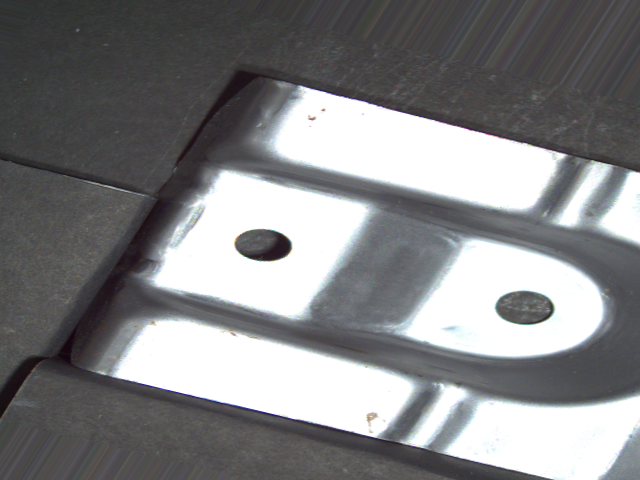defect: (490, 284, 560, 328)
